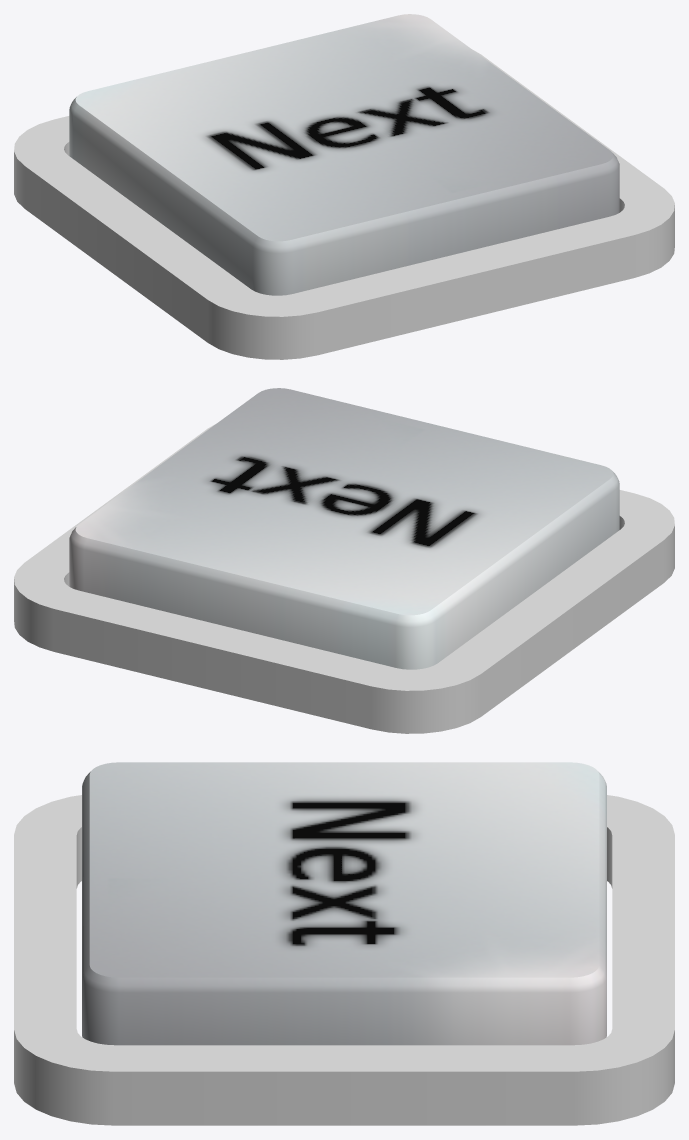
File: BtnNext.FBX
The picture shows the model from 3 angles, top to bottom: view 1: azimuth 30°, elevation 25°; view 2: azimuth 150°, elevation 25°; view 3: azimuth 270°, elevation 25°; orthographic projection. The views are drawn at different scales.
Parts seen in each view (by area): view 1: BtnNext001, BtnNext; view 2: BtnNext001, BtnNext; view 3: BtnNext001, BtnNext.
Boxes of the visible parts, bbox=[...] form: BtnNext001: bbox=[69, 14, 619, 295]; BtnNext: bbox=[14, 50, 674, 359]; BtnNext001: bbox=[69, 388, 619, 669]; BtnNext: bbox=[14, 424, 674, 733]; BtnNext001: bbox=[82, 762, 606, 1045]; BtnNext: bbox=[14, 795, 674, 1125].
Bounding box in the file's own units: 50 × 9.68 × 50.
